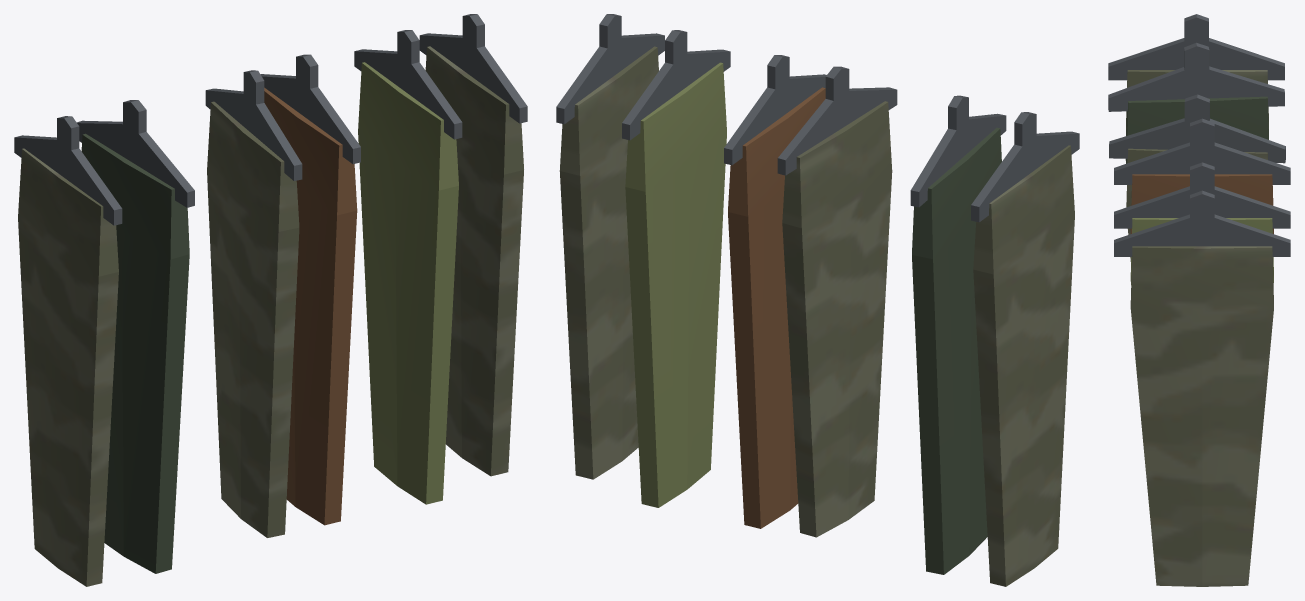
The model's file is SM_Prop_Clothes_Hunting_Pants_Set_01.obj.
3 views of the same model, side by side, from view 1: azimuth 30°, elevation 25°; view 2: azimuth 150°, elevation 25°; view 3: azimuth 270°, elevation 25° (orthographic). The views are drawn at different scales.
Parts seen in each view (by area): view 1: SM_Prop_Clothes_Hunting_Pants_Set_01_0; view 2: SM_Prop_Clothes_Hunting_Pants_Set_01_0; view 3: SM_Prop_Clothes_Hunting_Pants_Set_01_0.
Boxes of the visible parts, x1,y1,x2,y2 form: SM_Prop_Clothes_Hunting_Pants_Set_01_0: (14,14,527,586); SM_Prop_Clothes_Hunting_Pants_Set_01_0: (556,14,1079,586); SM_Prop_Clothes_Hunting_Pants_Set_01_0: (1108,14,1290,586).
Size of the model in its own units: 1.45 by 1.45 by 0.5963.
1 material, 1 textured.
